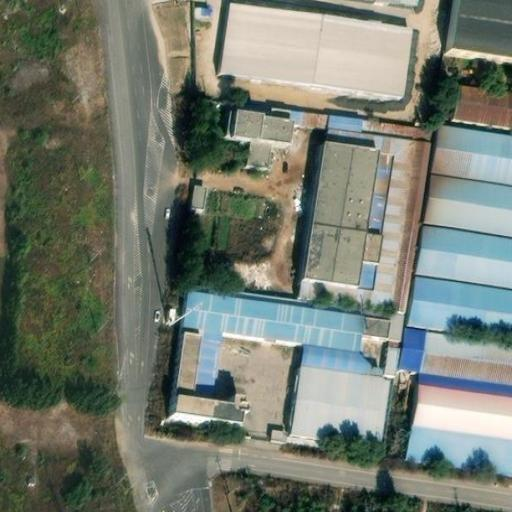building: (299, 116, 437, 325), (179, 293, 399, 405), (222, 5, 407, 95), (398, 375, 512, 480), (292, 348, 392, 450), (303, 146, 374, 286), (409, 277, 512, 341), (403, 327, 512, 386), (416, 225, 512, 290), (423, 173, 512, 237), (431, 126, 512, 184), (226, 109, 293, 164), (449, 0, 512, 58), (450, 84, 512, 130), (168, 399, 243, 428), (170, 336, 197, 402), (271, 108, 326, 134), (186, 179, 207, 210), (265, 423, 289, 441), (193, 0, 213, 18)
